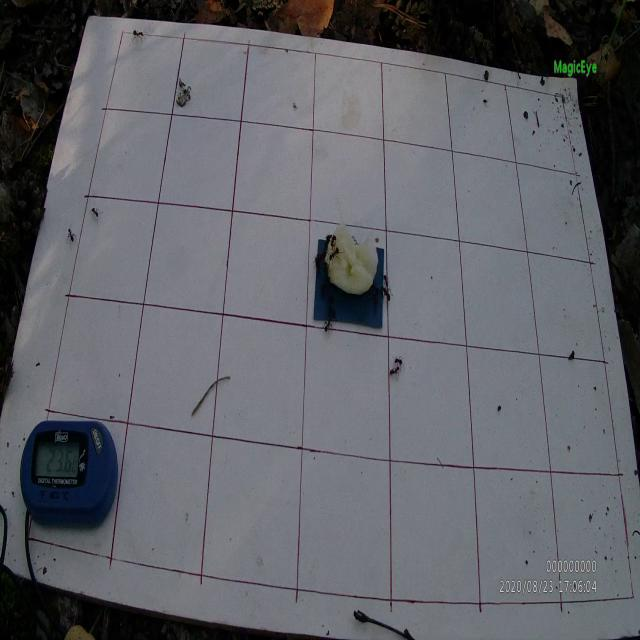Ant: (328, 246, 344, 265), (323, 313, 334, 336), (67, 228, 78, 250), (132, 28, 146, 45), (91, 203, 102, 224), (380, 285, 393, 302), (392, 353, 405, 368), (389, 365, 402, 379), (328, 233, 337, 249)
